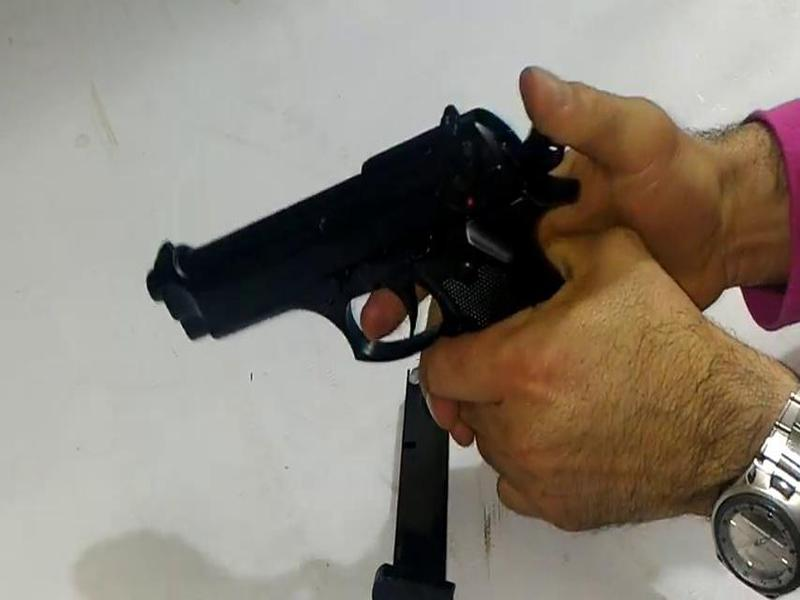Pistola: (136, 91, 593, 421)
